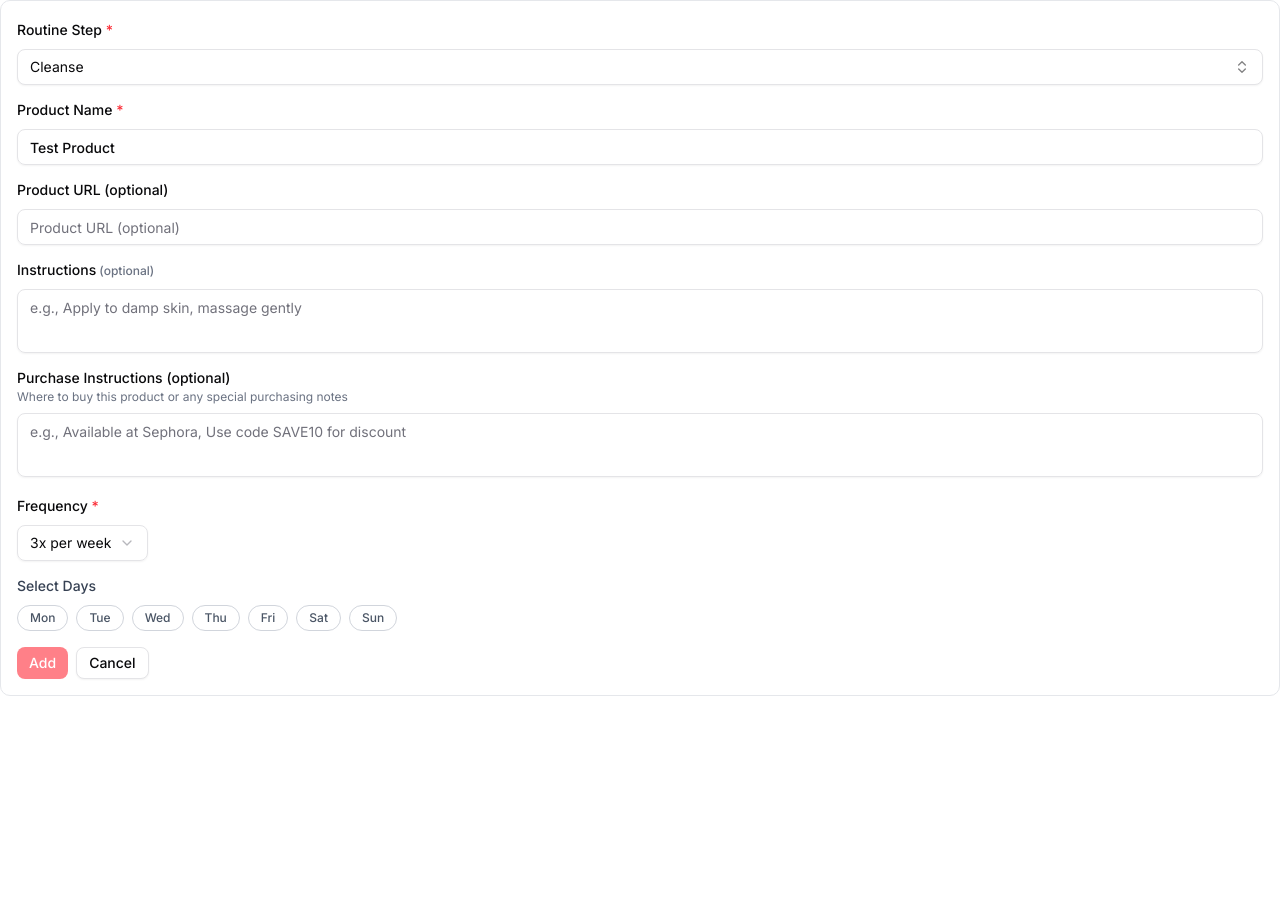
Test: ProductForm › Error Message Interaction Behavior › error persists when user has wrong number selected and keeps interacting
Note: Click Monday
Click the button "Mon" at [43, 618], box [17,605,68,631]
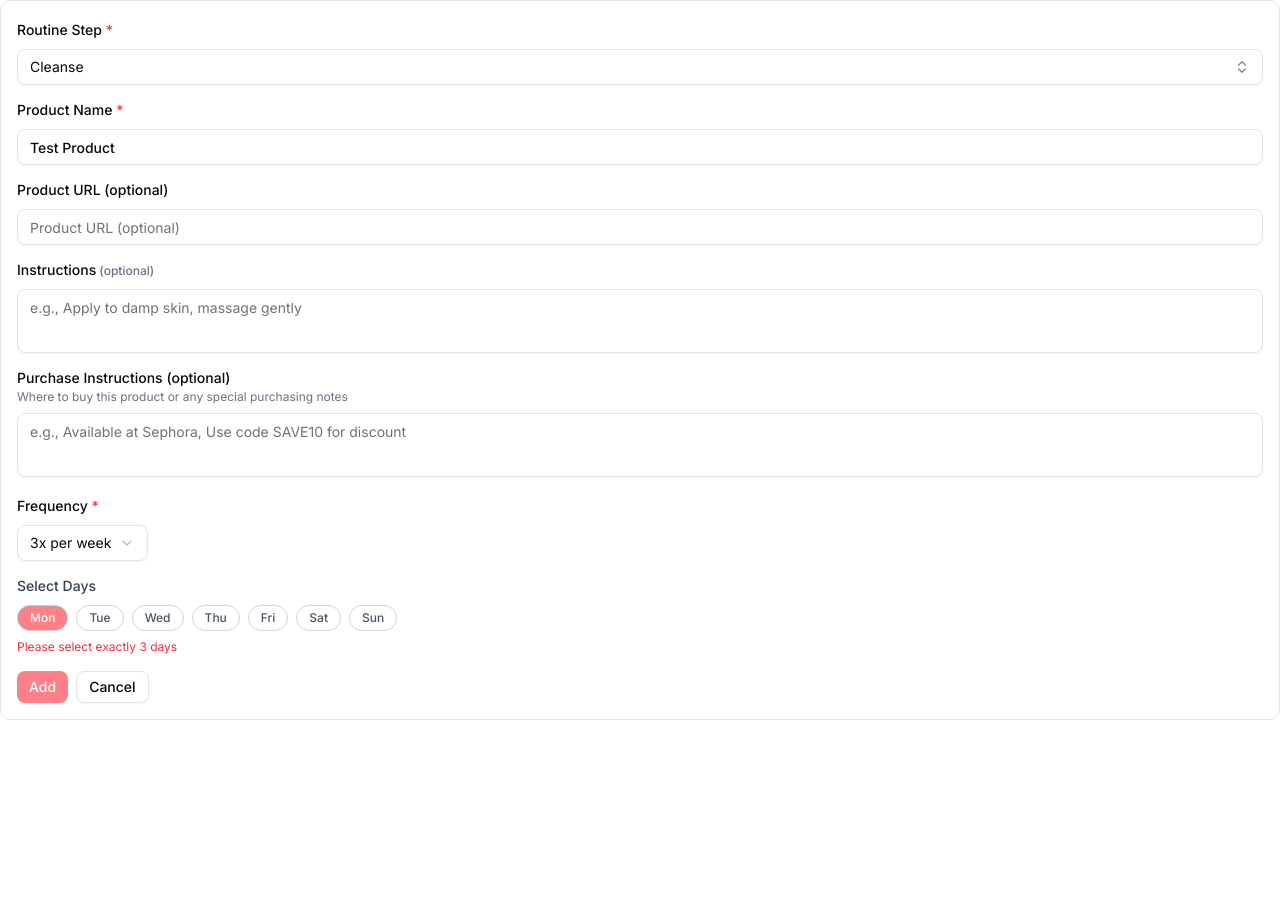
Expected: the text "Please select exactly 3 days" is shown, [17,639,177,654]
Note: Click Tuesday (still only 2 days, error should persist)
Click the button "Tue" at [100, 618], box [76,605,124,631]
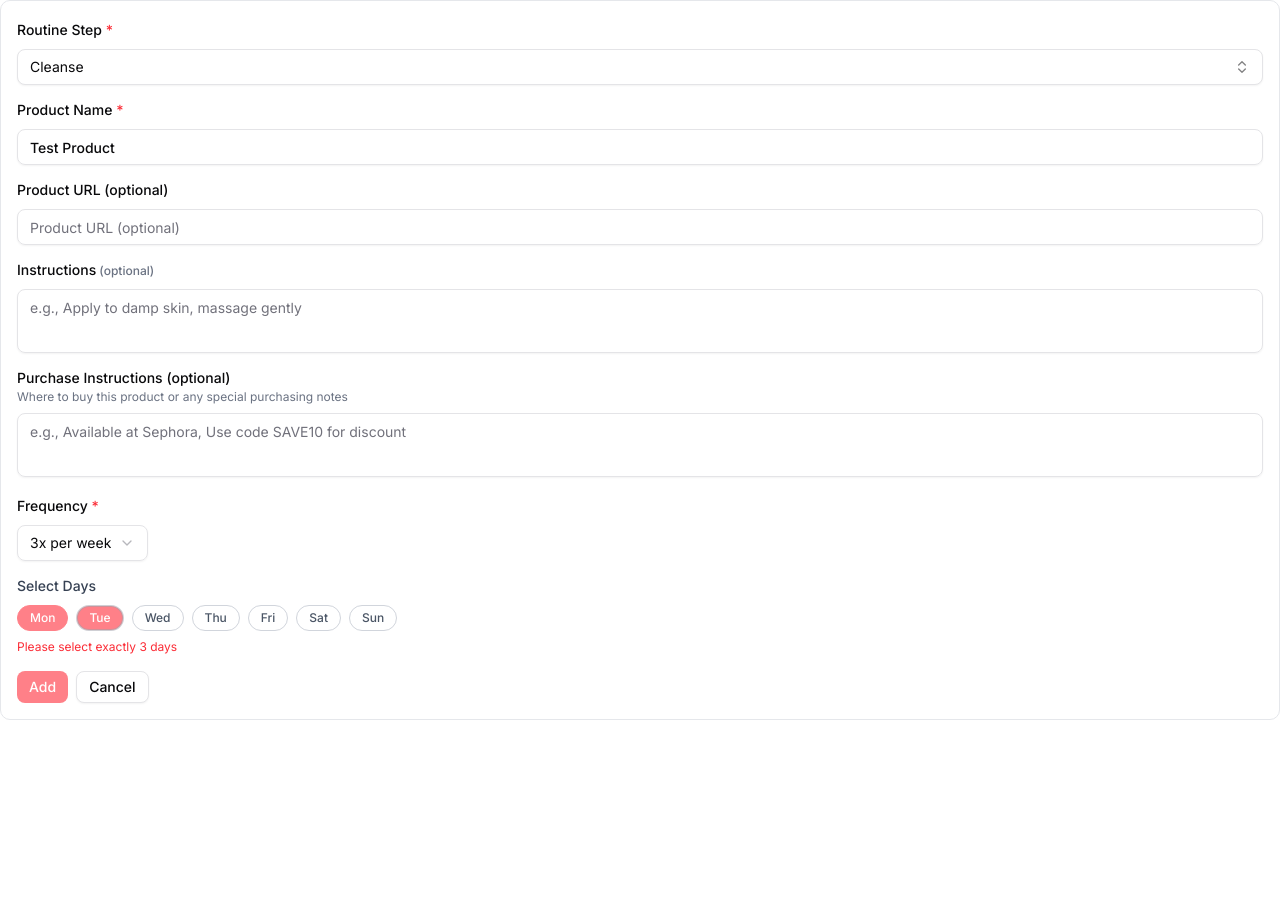
Expected: the text "Please select exactly 3 days" is shown, [17,639,177,654]
Note: Click Wednesday (now have 3 days, error should disappear)
Click the button "Wed" at [158, 618], box [132,605,184,631]
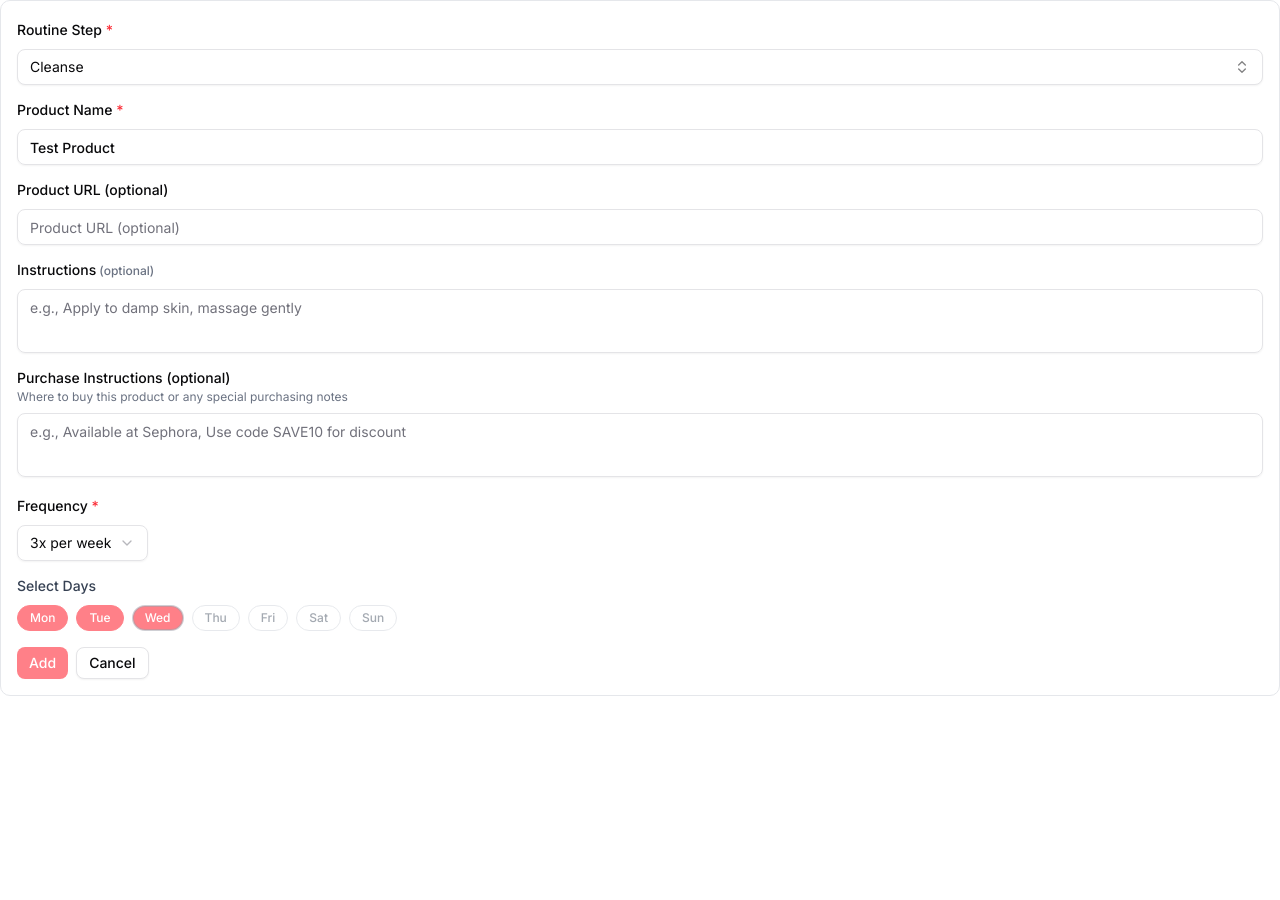
Expected: the text "Please select exactly 3 days" is gone
Note: Unclick Wednesday (back to 2 days, error should reappear)
Click the button "Wed" at [158, 618], box [132,605,184,631]
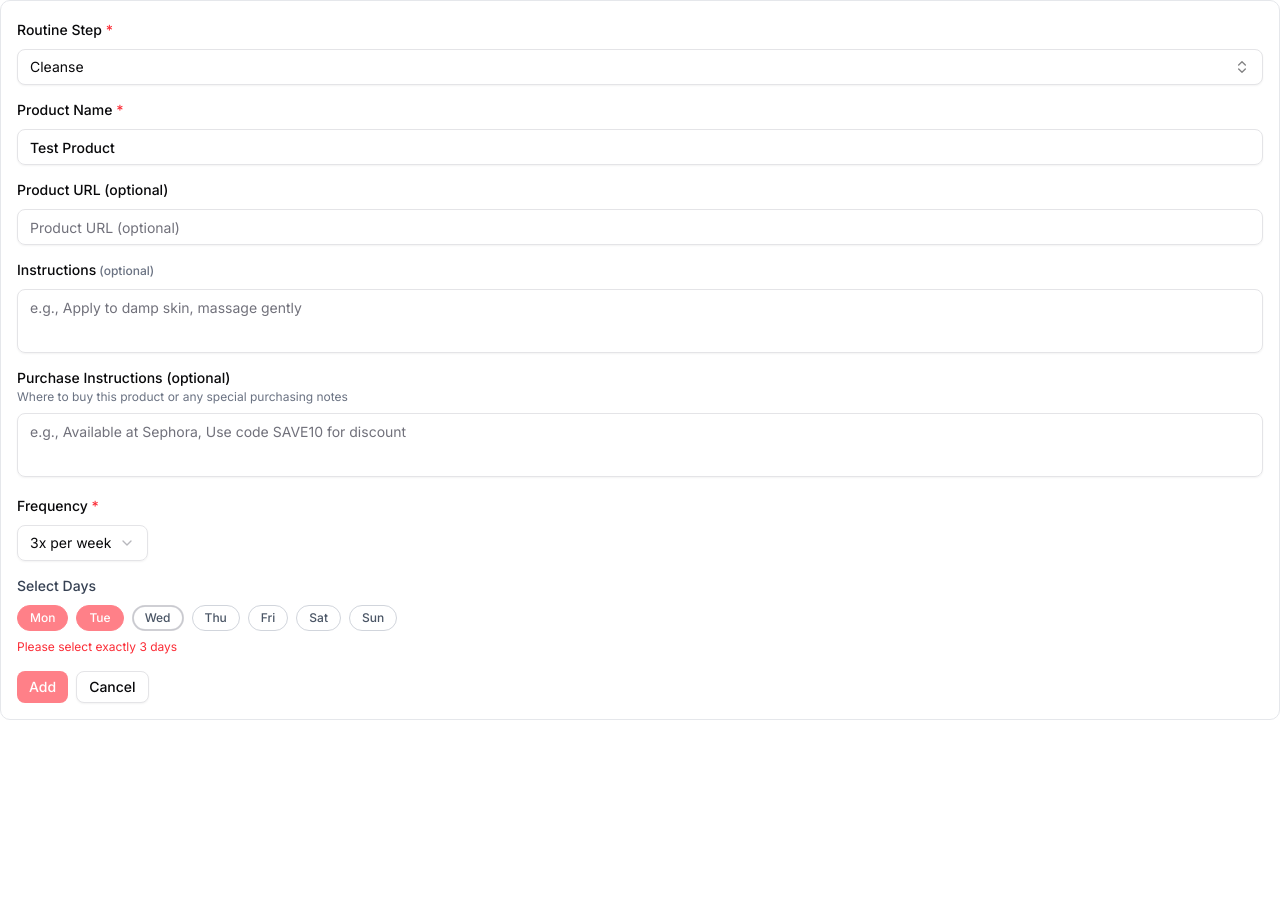
Expected: the text "Please select exactly 3 days" is shown, [17,639,177,654]
